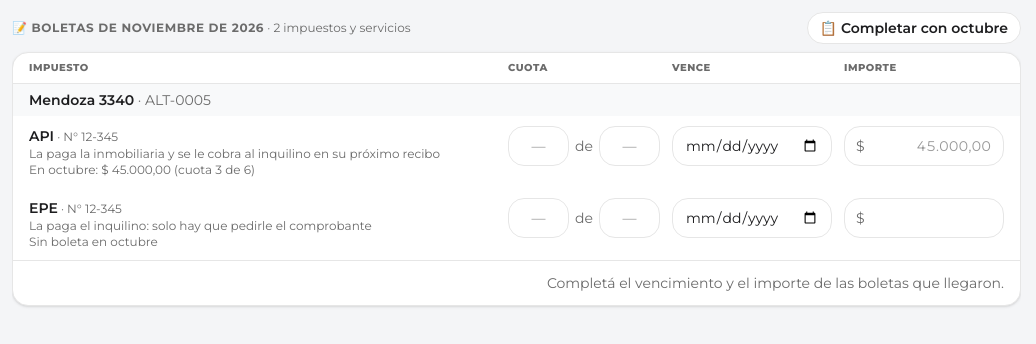
Test: «Cargar el mes» (reglas 51 y 52) › una fila con importe y sin vencimiento no se guarda: dice cuál
Type "30.000" into the field named "Importe de EPE de Mendoza 3340" at (924, 218), box [844,198,1004,238]
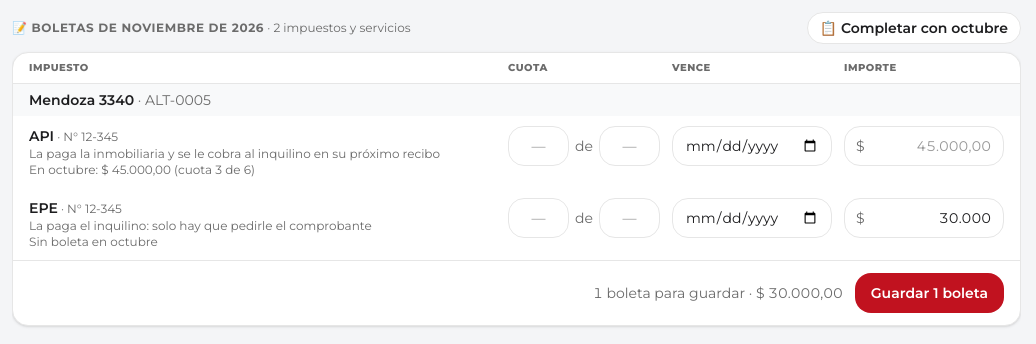
Click the button "Guardar 1 boleta" at (929, 293), box [855,273,1004,313]
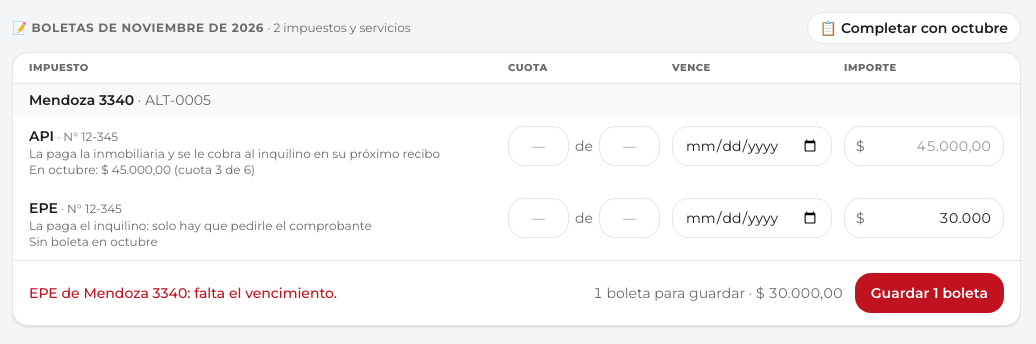
Check: the message reads "EPE de Mendoza 3340: falta el vencimiento.", box [29,284,337,302]
